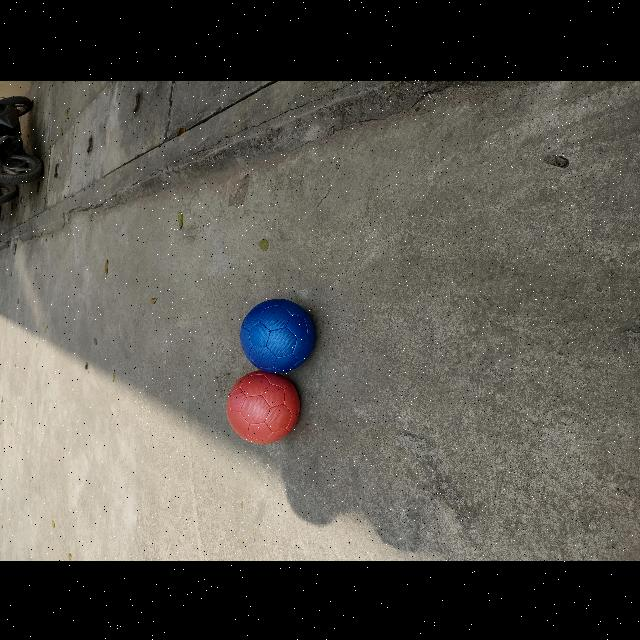B: (241, 297, 319, 373)
R: (227, 368, 304, 444)
